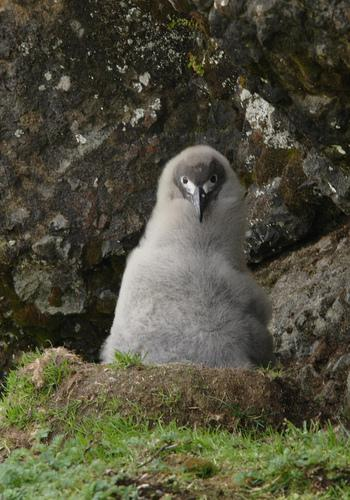003.Sooty_Albatross: (100, 144, 281, 379)
